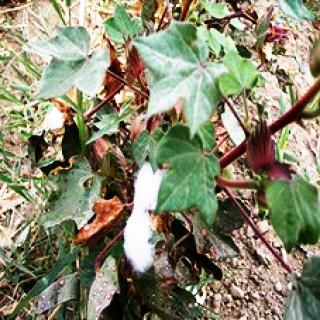wilt: (246, 127, 290, 189), (107, 54, 147, 105)
